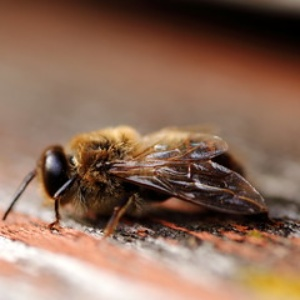bee: (6, 122, 276, 245)
